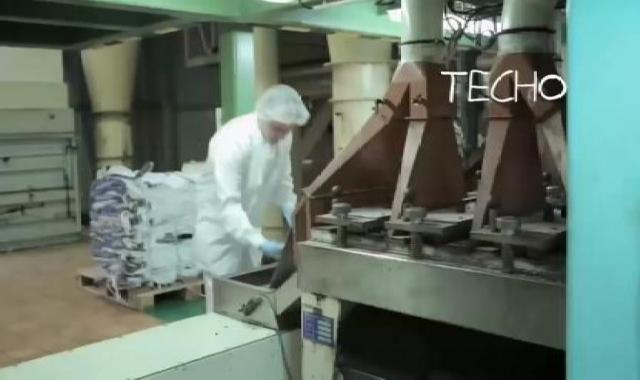hairnet: (254, 84, 324, 131)
